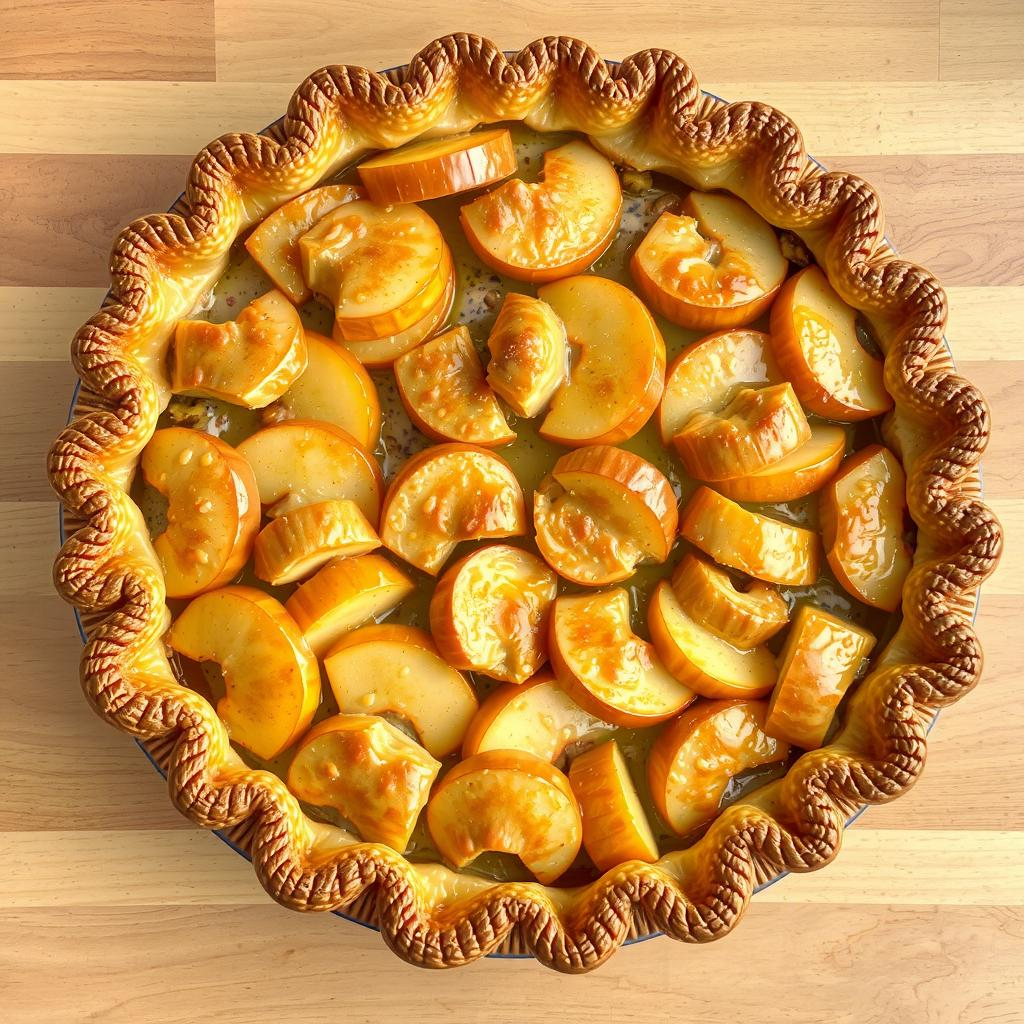pie: (40, 26, 1013, 981)
